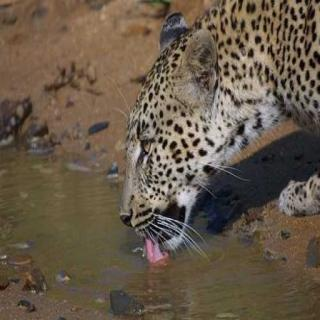Leopard: (120, 0, 320, 220)
